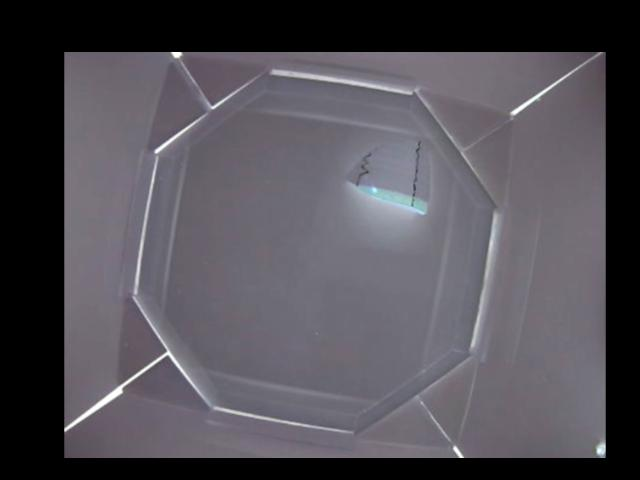China: (346, 139, 428, 214)
